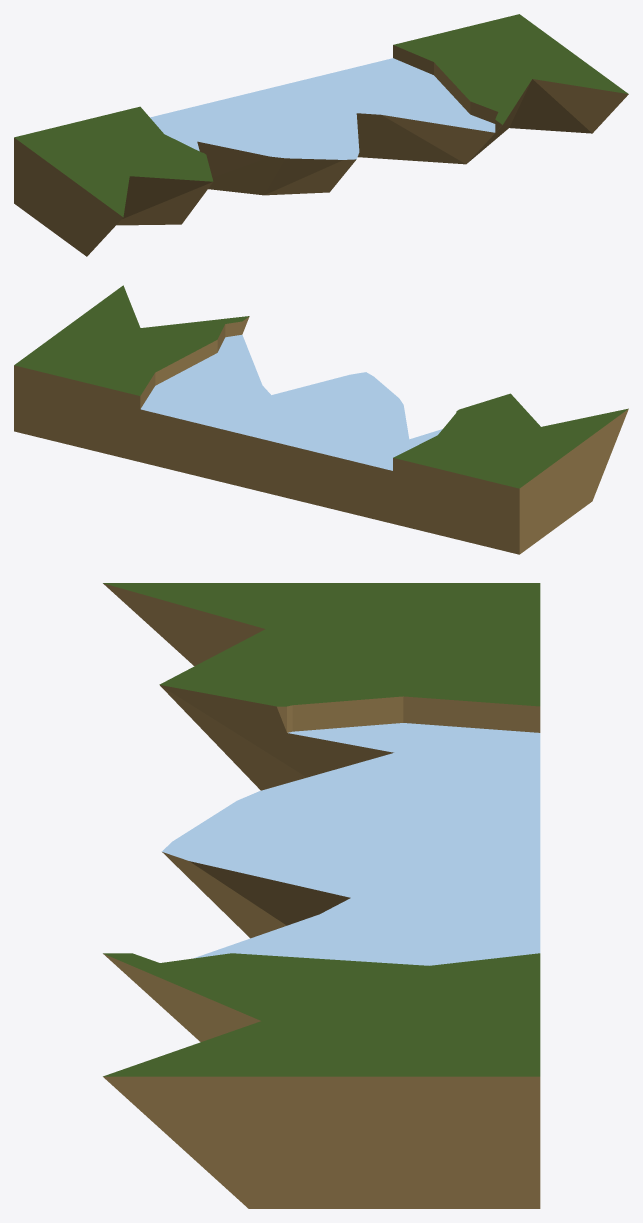
The model's file is Terrain_Tile_Grass_Dirt_Ledge_River_01.fbx.
3 renders of one model, top to bottom at view 1: azimuth 30°, elevation 25°; view 2: azimuth 150°, elevation 25°; view 3: azimuth 270°, elevation 25°, orthographic. The views are drawn at different scales.
Visible parts, largest first — view 1: Terrain_Tile_Grass_Dirt_Ledge_River_01; view 2: Terrain_Tile_Grass_Dirt_Ledge_River_01; view 3: Terrain_Tile_Grass_Dirt_Ledge_River_01.
Part boxes in pixels (<box>): Terrain_Tile_Grass_Dirt_Ledge_River_01: <box>14,14,628,256</box>; Terrain_Tile_Grass_Dirt_Ledge_River_01: <box>14,285,628,554</box>; Terrain_Tile_Grass_Dirt_Ledge_River_01: <box>103,583,540,1208</box>.
Size of the model in its own units: 126 by 15.75 by 47.24.
